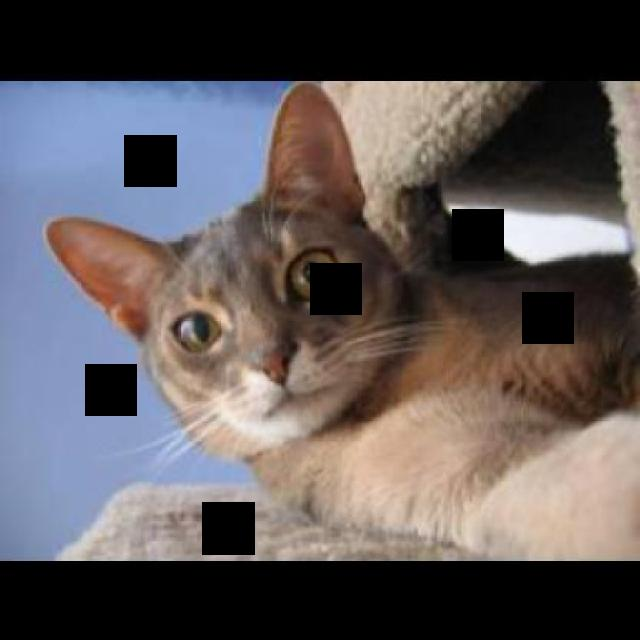unauthorized: (41, 80, 638, 557)
